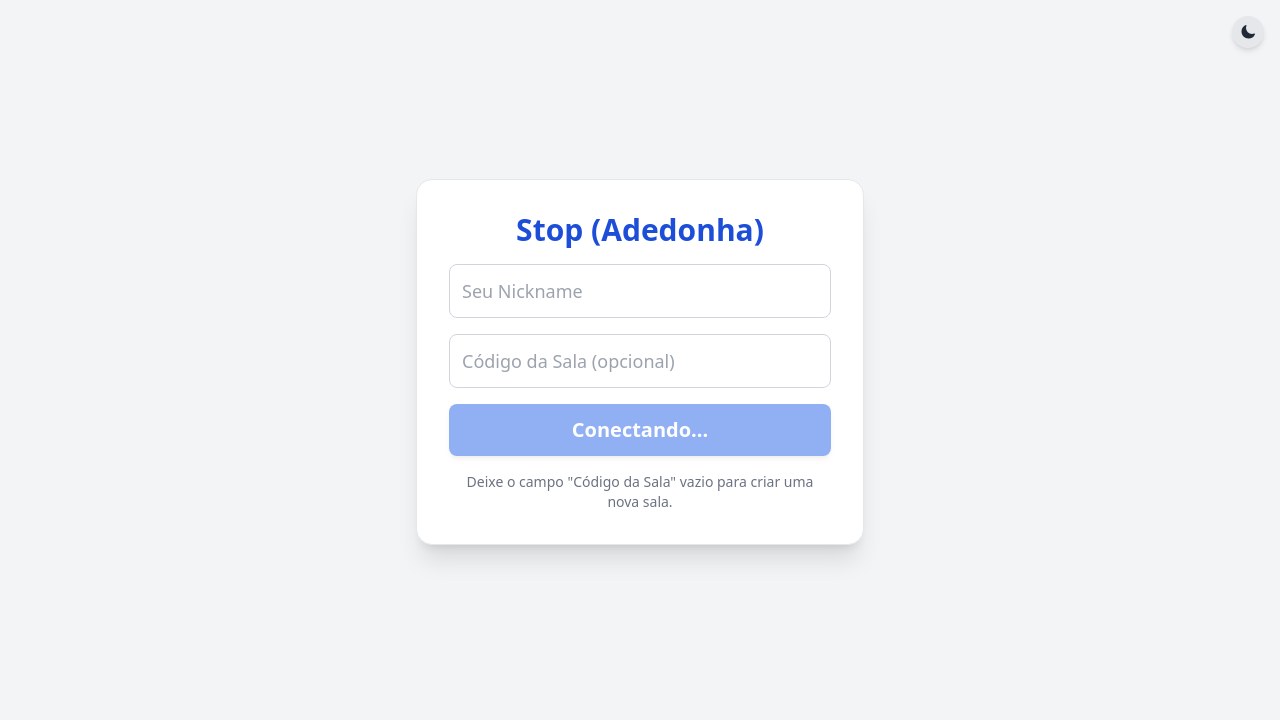
Scenario: Home Component › Form Input Validation › should respect nickname maxLength of 15 characters
Type "ThisIsAVeryLongNicknameThatExceeds15Characters" into the field with test id "nickname-input" at (640, 291), box x1=449 y1=264 x2=831 y2=318
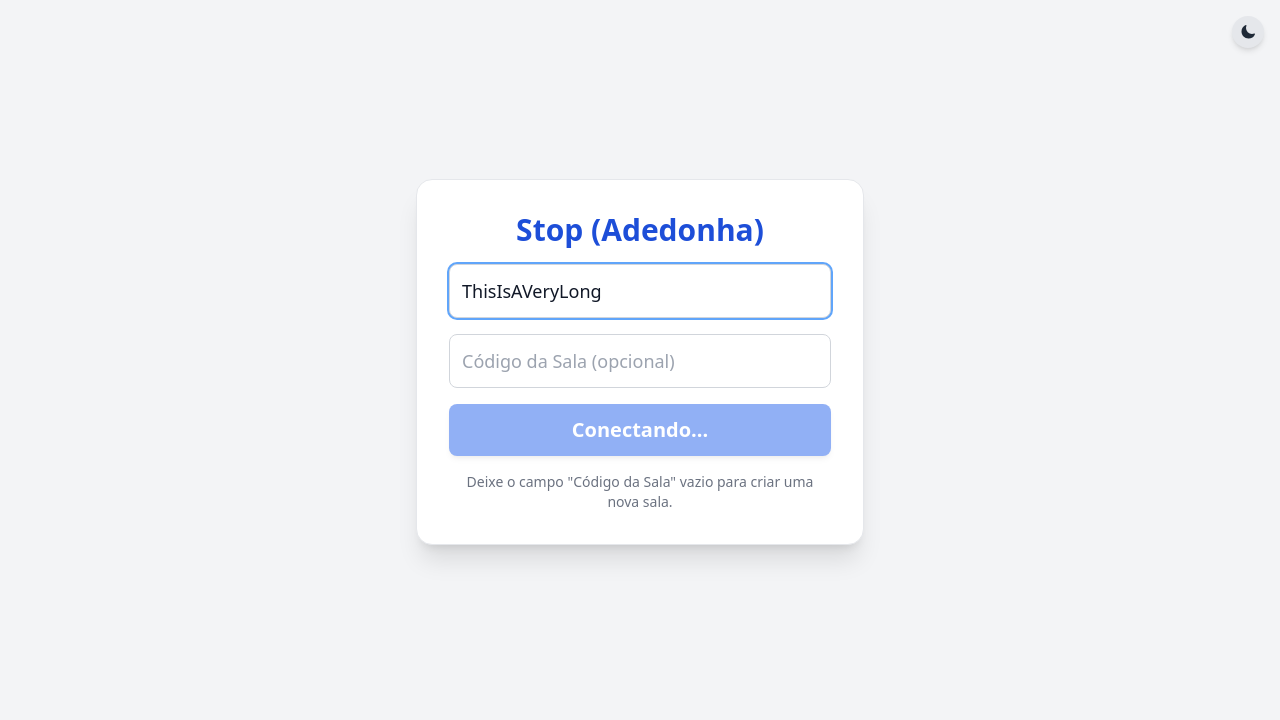
Now the field with test id "nickname-input" holds "ThisIsAVeryLong", box x1=449 y1=264 x2=831 y2=318
